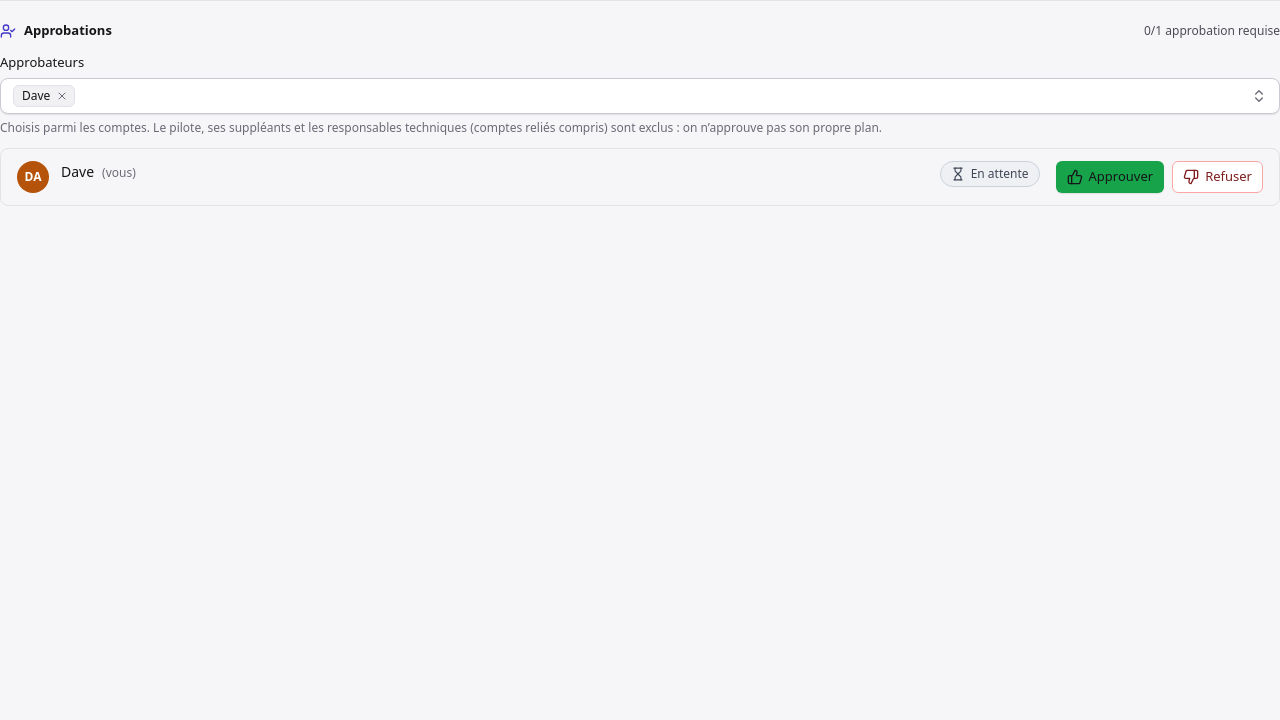
Test case: ApprobationsBloc : décider, désigner › approuver : la décision part avec la version de la MEP, le commentaire est facultatif
Click the button "Approuver" at (1110, 177), box [1056,161,1164,193]
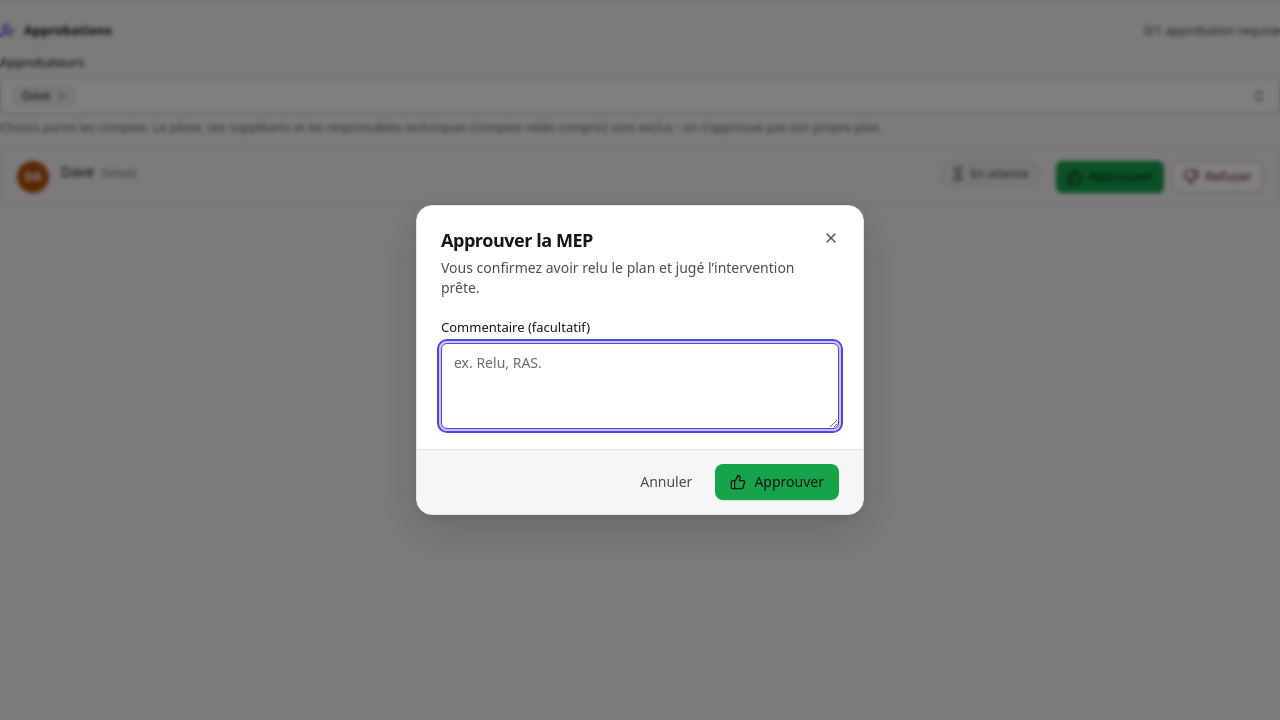
expect the text box labelled "Commentaire (facultatif)" is shown: met
Type "Relu, RAS." into the text box labelled "Commentaire (facultatif)" at (640, 386), box [441,343,839,429]
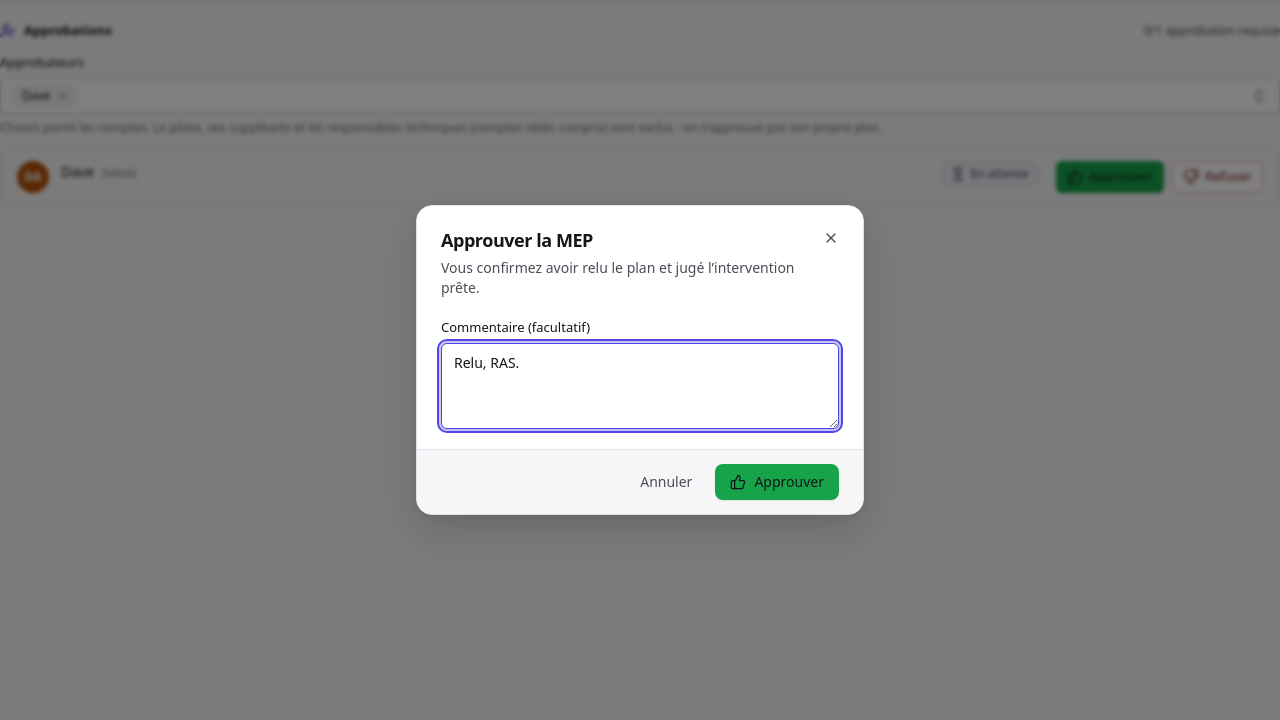
Click the button "Approuver" at (777, 482), box [715,464,839,500]
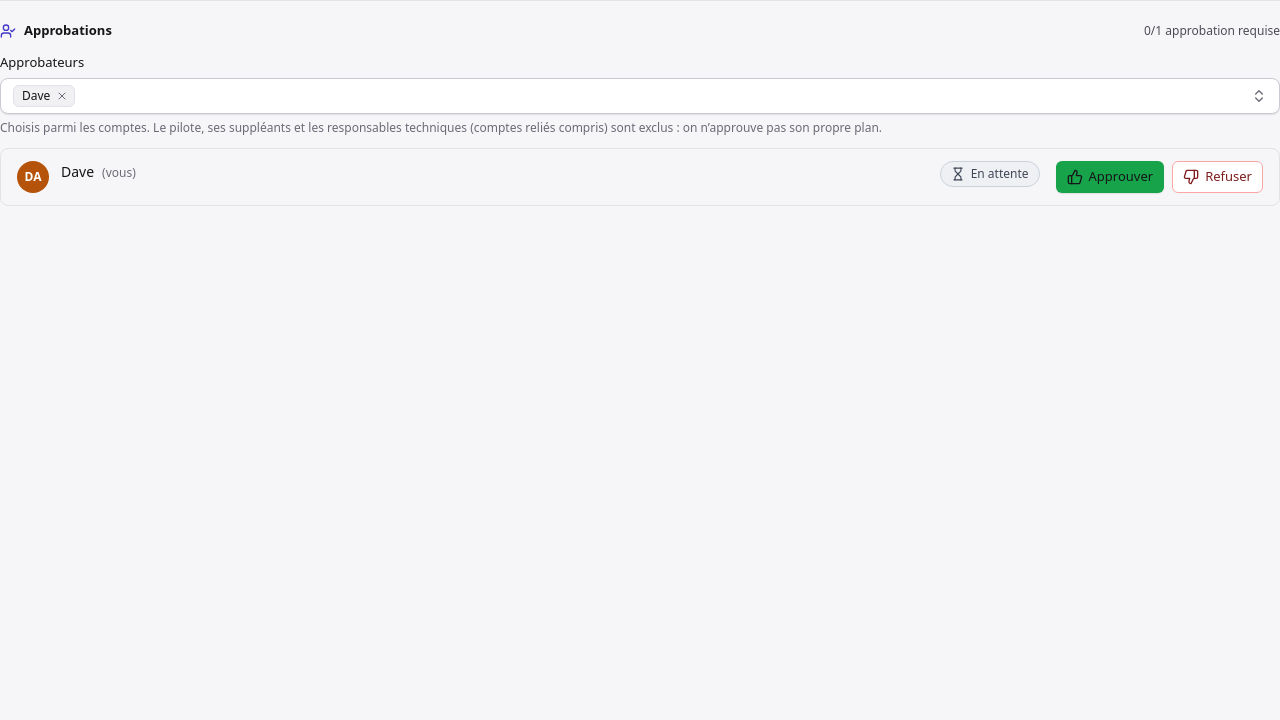
expect the dialog is gone: met
